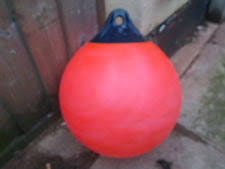buoy: (58, 41, 183, 159)
